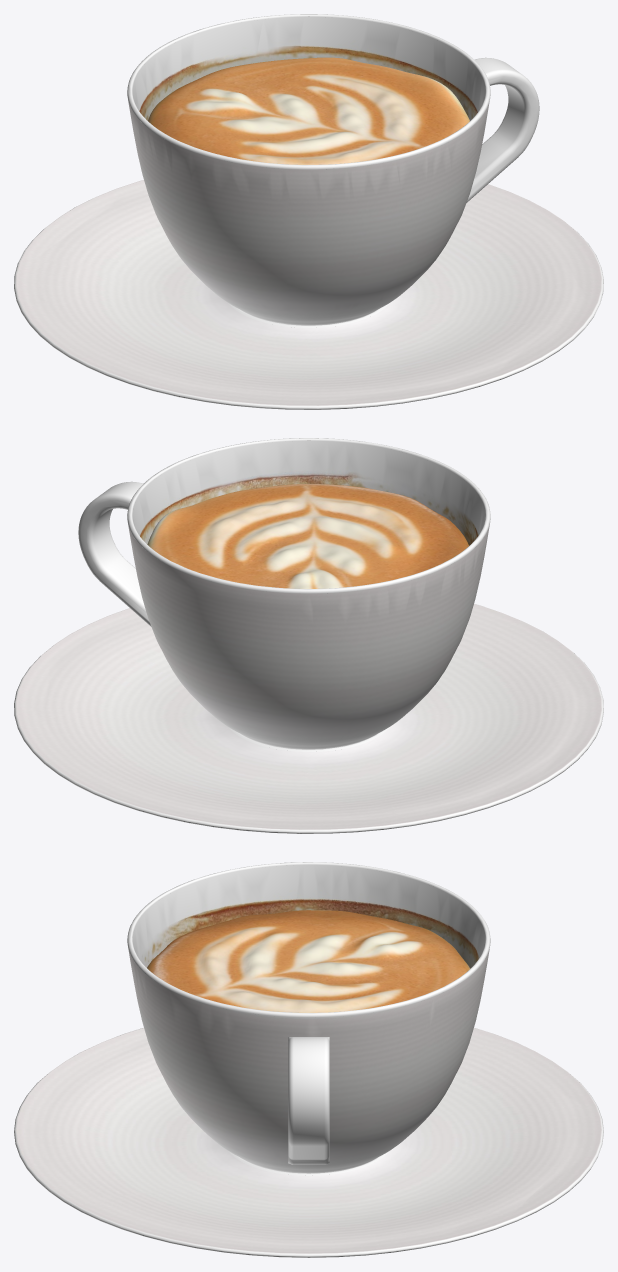
File: cappuccino.glb
3 views of the same model, one above another, from view 1: azimuth 30°, elevation 25°; view 2: azimuth 150°, elevation 25°; view 3: azimuth 270°, elevation 25° (orthographic).
Visible parts, largest first — view 1: spodeczek_3, object 1, pianka_1; view 2: spodeczek_3, object 1, pianka_1; view 3: spodeczek_3, object 1, pianka_1.
Part boxes in pixels (left/top/right/bottom): spodeczek_3: left=14, top=180, right=603, bottom=409; object 1: left=127, top=14, right=539, bottom=325; pianka_1: left=148, top=57, right=469, bottom=164; spodeczek_3: left=14, top=604, right=603, bottom=833; object 1: left=78, top=438, right=490, bottom=749; pianka_1: left=147, top=484, right=468, bottom=588; spodeczek_3: left=14, top=1027, right=603, bottom=1257; object 1: left=127, top=862, right=490, bottom=1173; pianka_1: left=147, top=910, right=470, bottom=1012.
Size of the model in its own units: 0.15 by 0.0596 by 0.15.
5 materials, 3 textured.
